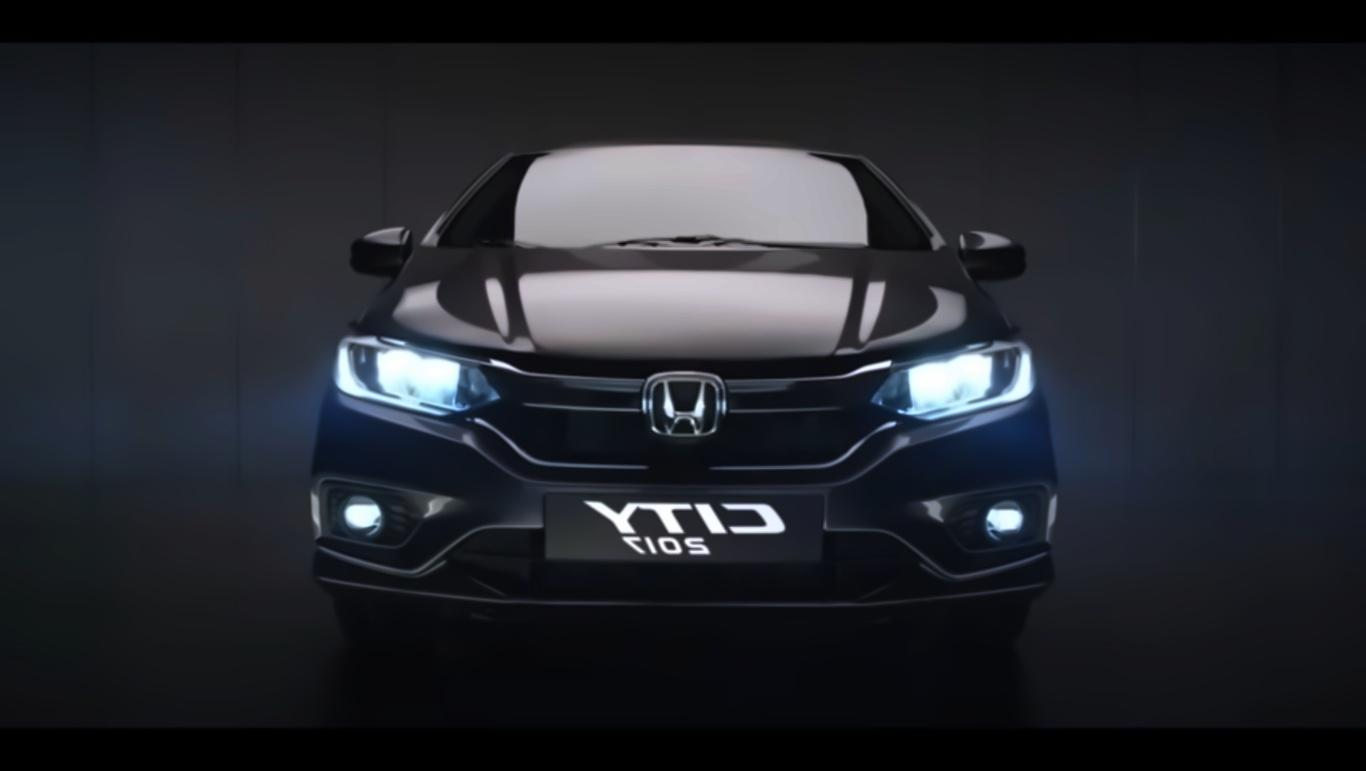Car hood: (359, 244, 1007, 365)
Front bumper: (299, 413, 1066, 611)
Headlight - -L-: (865, 333, 1041, 421)
Headlight - -R-: (330, 333, 503, 430)
Side mirror - -L-: (954, 226, 1030, 284)
Side mirror - -R-: (349, 224, 416, 284)
